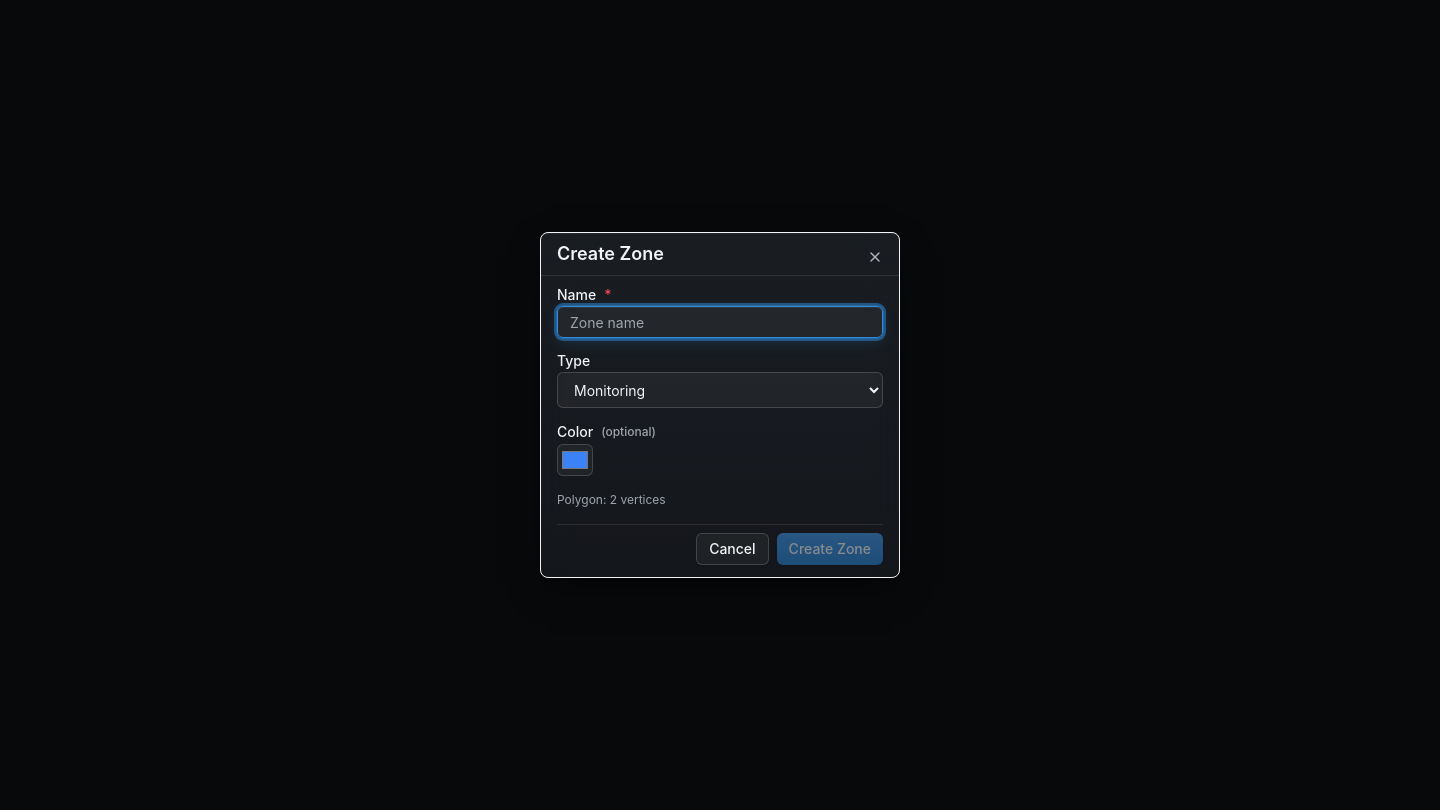
CreateZoneDialog › shows validation error for polygon with fewer than 3 vertices
In the field labelled "Name *": (720, 322) [557, 306, 883, 338], type "Tiny Zone"
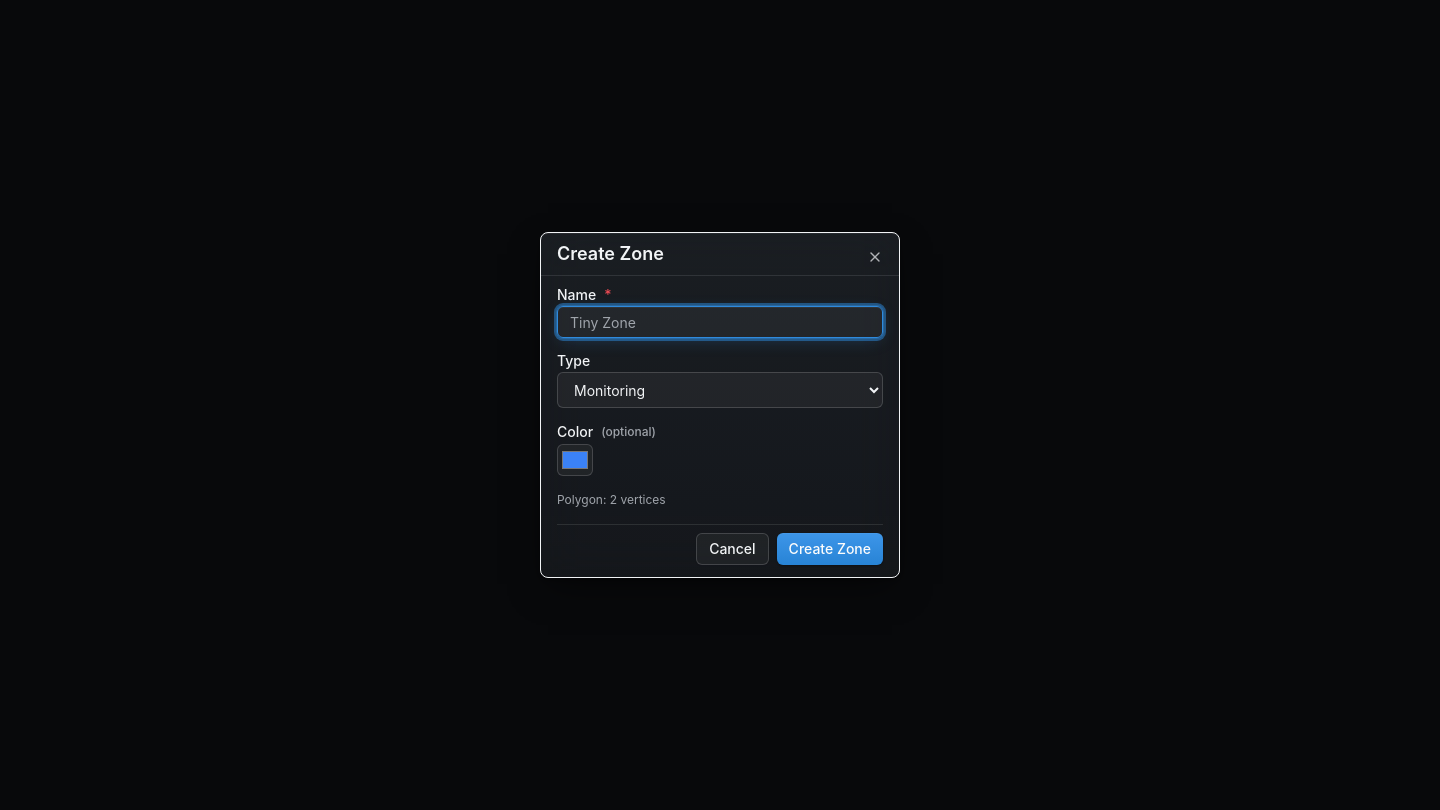
Click the button "Create Zone": (830, 549) [777, 533, 883, 565]
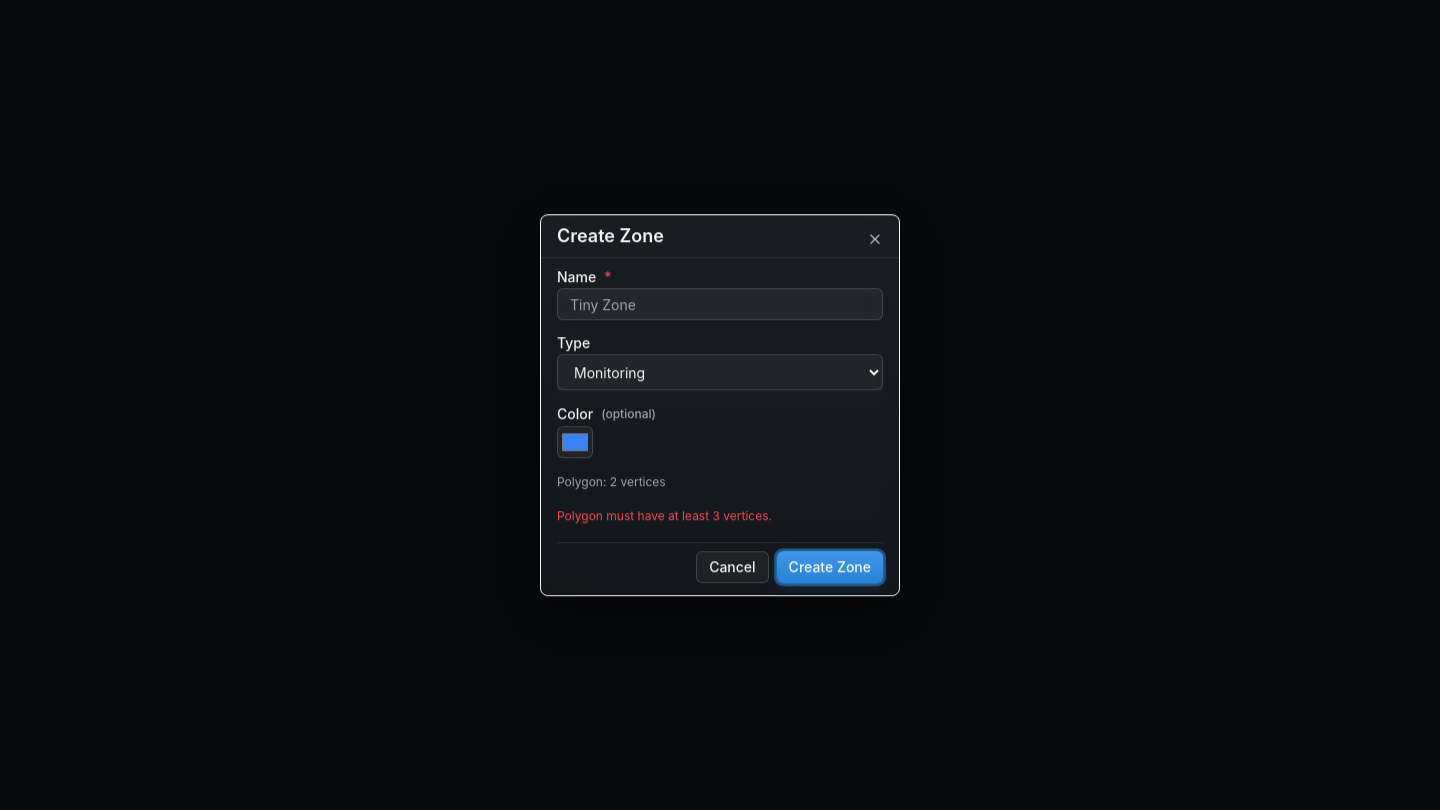
expect the message reads "Polygon must have at least 3 vertices.": met, box [557, 508, 772, 523]
